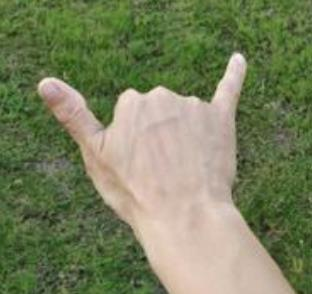clockwise: (36, 49, 251, 232)
